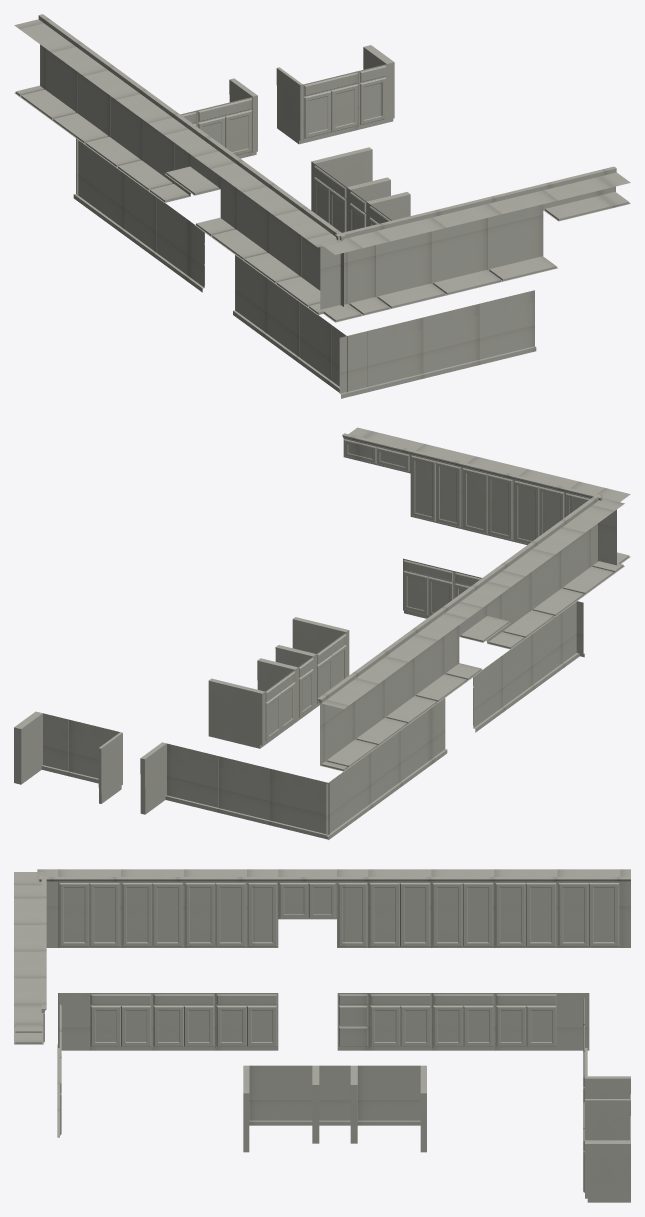
Rendered from 2345_kitchen_cabinets_bolder.gltf.
3 views of the same model, one above another, from view 1: azimuth 30°, elevation 25°; view 2: azimuth 150°, elevation 25°; view 3: azimuth 270°, elevation 25° (orthographic). The views are drawn at different scales.
Parts seen in each view (by area): view 1: Kitchen Cabinets Bolder; view 2: Kitchen Cabinets Bolder; view 3: Kitchen Cabinets Bolder.
Boxes of the visible parts, x1=… form: Kitchen Cabinets Bolder: x1=14, y1=14, x2=630, y2=398; Kitchen Cabinets Bolder: x1=14, y1=427, x2=630, y2=839; Kitchen Cabinets Bolder: x1=14, y1=869, x2=630, y2=1202.
Bounding box in the file's own units: 6.4 × 2.93 × 9.8.
1 material, 1 textured.
